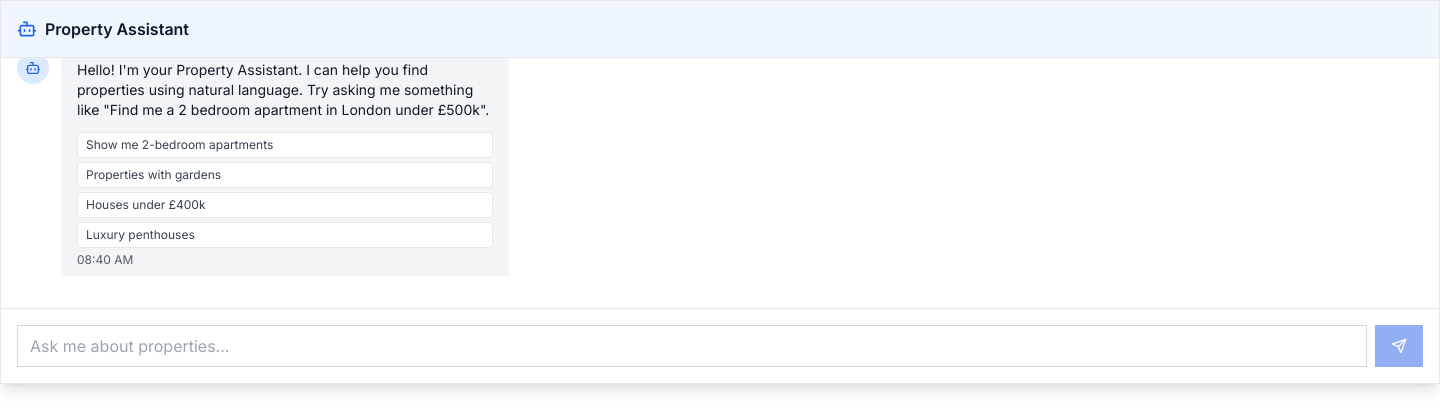
it: ChatBot TDD Implementation › GREEN Phase: Basic implementation › should display conversation history
This screenshot has width=1440, height=410.
(page scrolled)
Note: Send first message
Type "Hello" into the field named "message". click: (692, 346)
box: x1=17 y1=325 x2=1367 y2=367
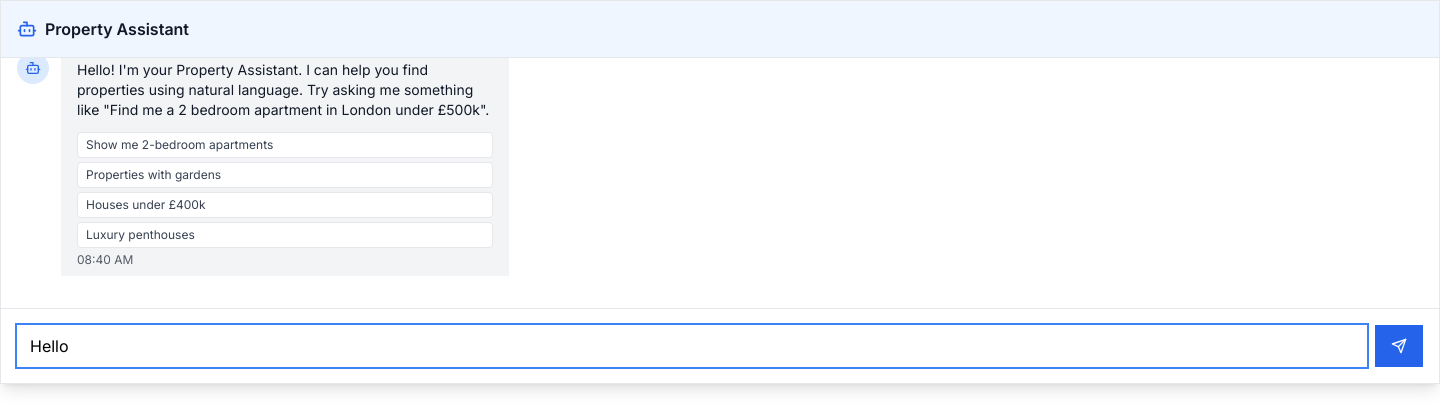
Click the button named "send". click: (1399, 346)
box: x1=1375 y1=325 x2=1423 y2=367
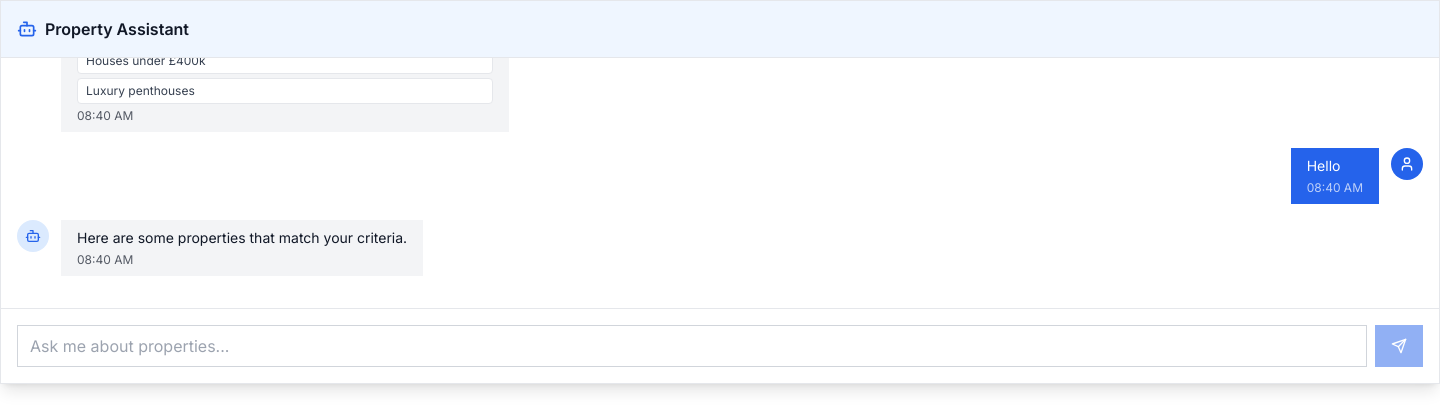
Expected: the text "Hello" is shown, x1=1307 y1=157 x2=1340 y2=174
Expected: the text "Here are some properties that match your criteria." is shown, x1=77 y1=228 x2=407 y2=248
Note: Send second message
Type "Show me more details" into the field named "message". click: (692, 346)
box: x1=17 y1=325 x2=1367 y2=367
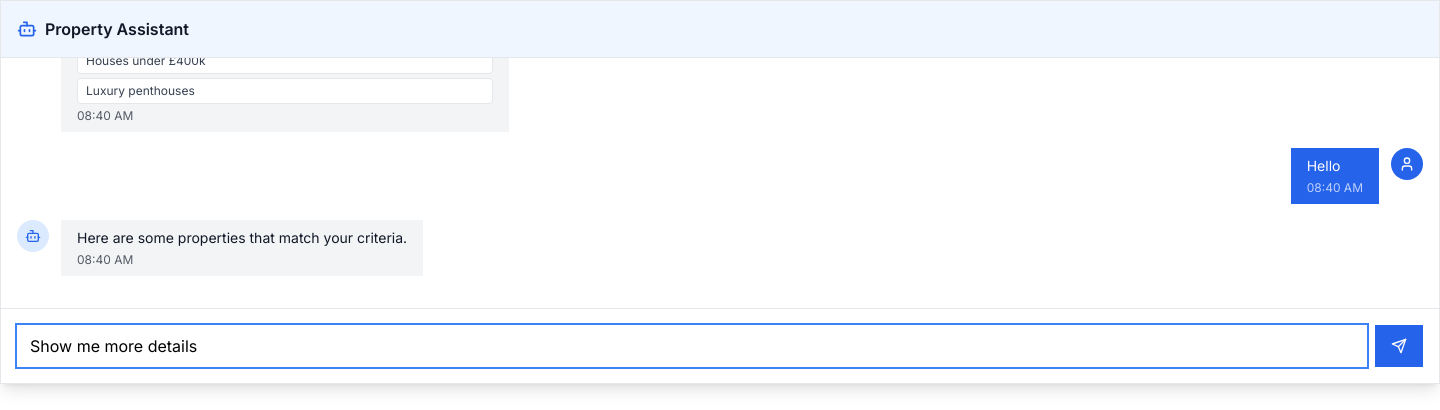
Click the button named "send". click: (1399, 346)
box: x1=1375 y1=325 x2=1423 y2=367
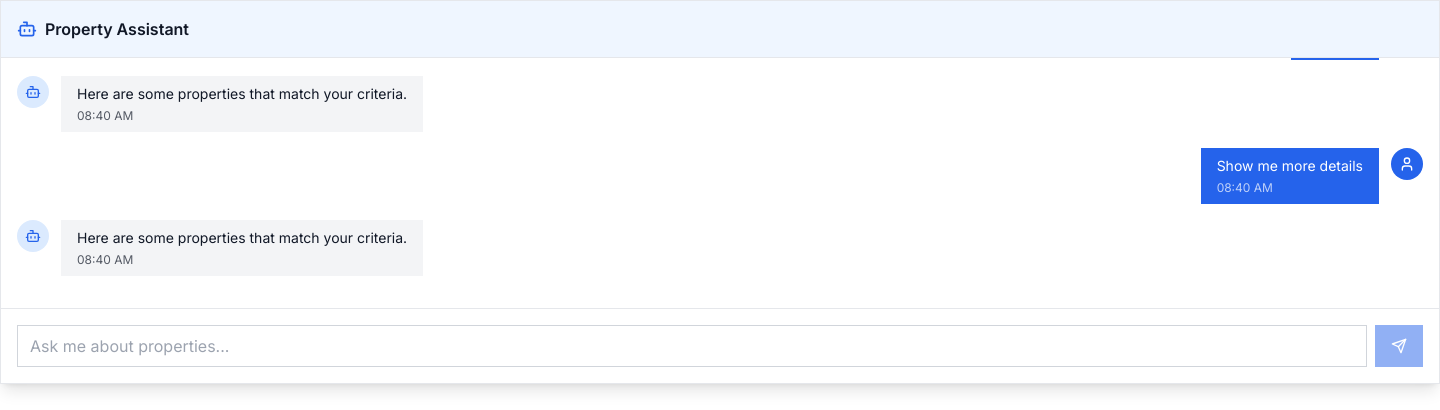
Expected: the text "Show me more details" is shown, x1=1217 y1=156 x2=1363 y2=176
